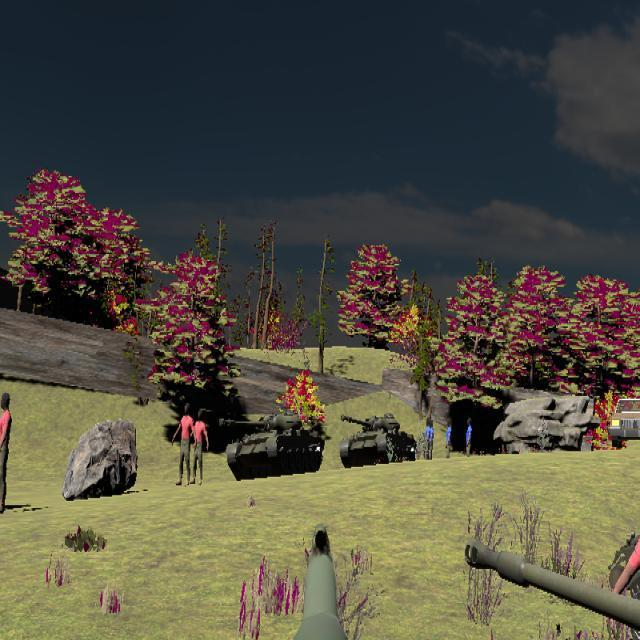Human: (611, 486, 640, 640), (172, 403, 196, 486), (190, 409, 209, 486), (0, 392, 11, 516)
Tank: (223, 409, 324, 481), (339, 412, 406, 469)
car: (608, 396, 640, 447)
